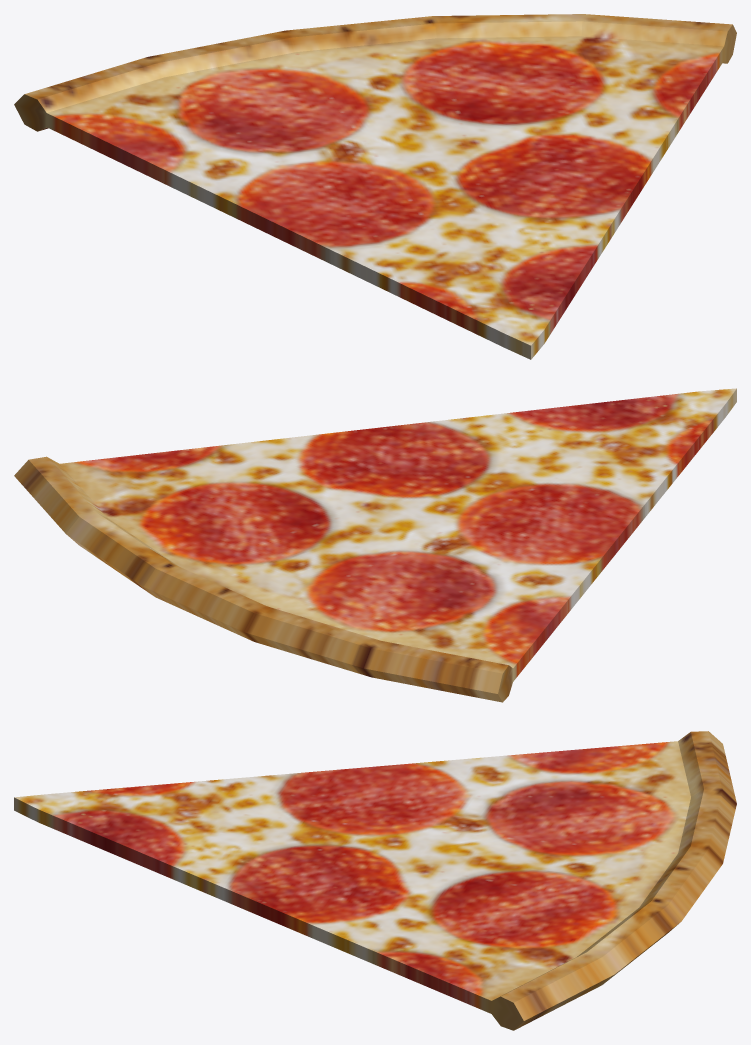
Rendered from pizza slice.fbx.
3 renders of one model, top to bottom at view 1: azimuth 30°, elevation 25°; view 2: azimuth 150°, elevation 25°; view 3: azimuth 270°, elevation 25°, orthographic. The views are drawn at different scales.
Parts seen in each view (by area): view 1: Circle; view 2: Circle; view 3: Circle.
Boxes of the visible parts, x1=… form: Circle: x1=14, y1=14, x2=736, y2=359; Circle: x1=14, y1=388, x2=736, y2=702; Circle: x1=14, y1=731, x2=736, y2=1030.
Size of the model in its own units: 92.75 by 4.64 by 102.
Materials: 1 (1 with a texture image).
